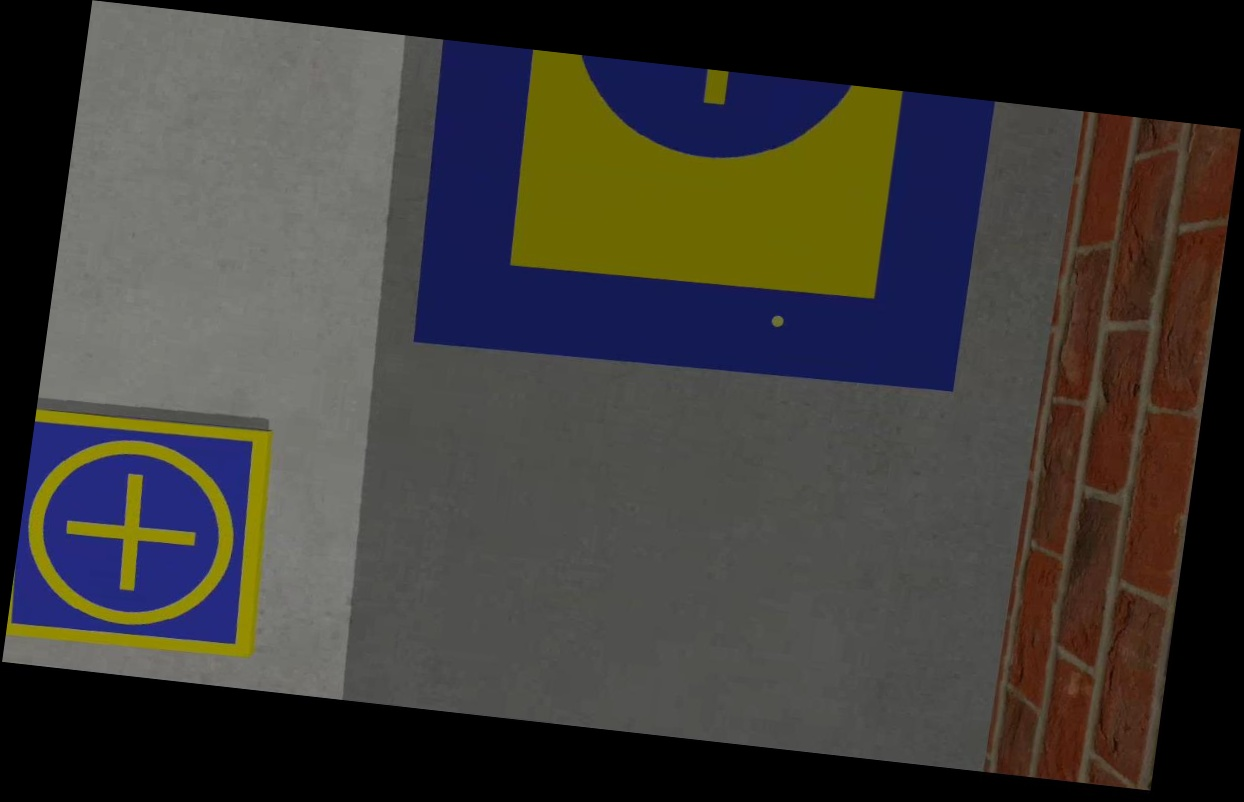large_base: (398, 39, 1001, 406)
small_base: (5, 399, 279, 663)
